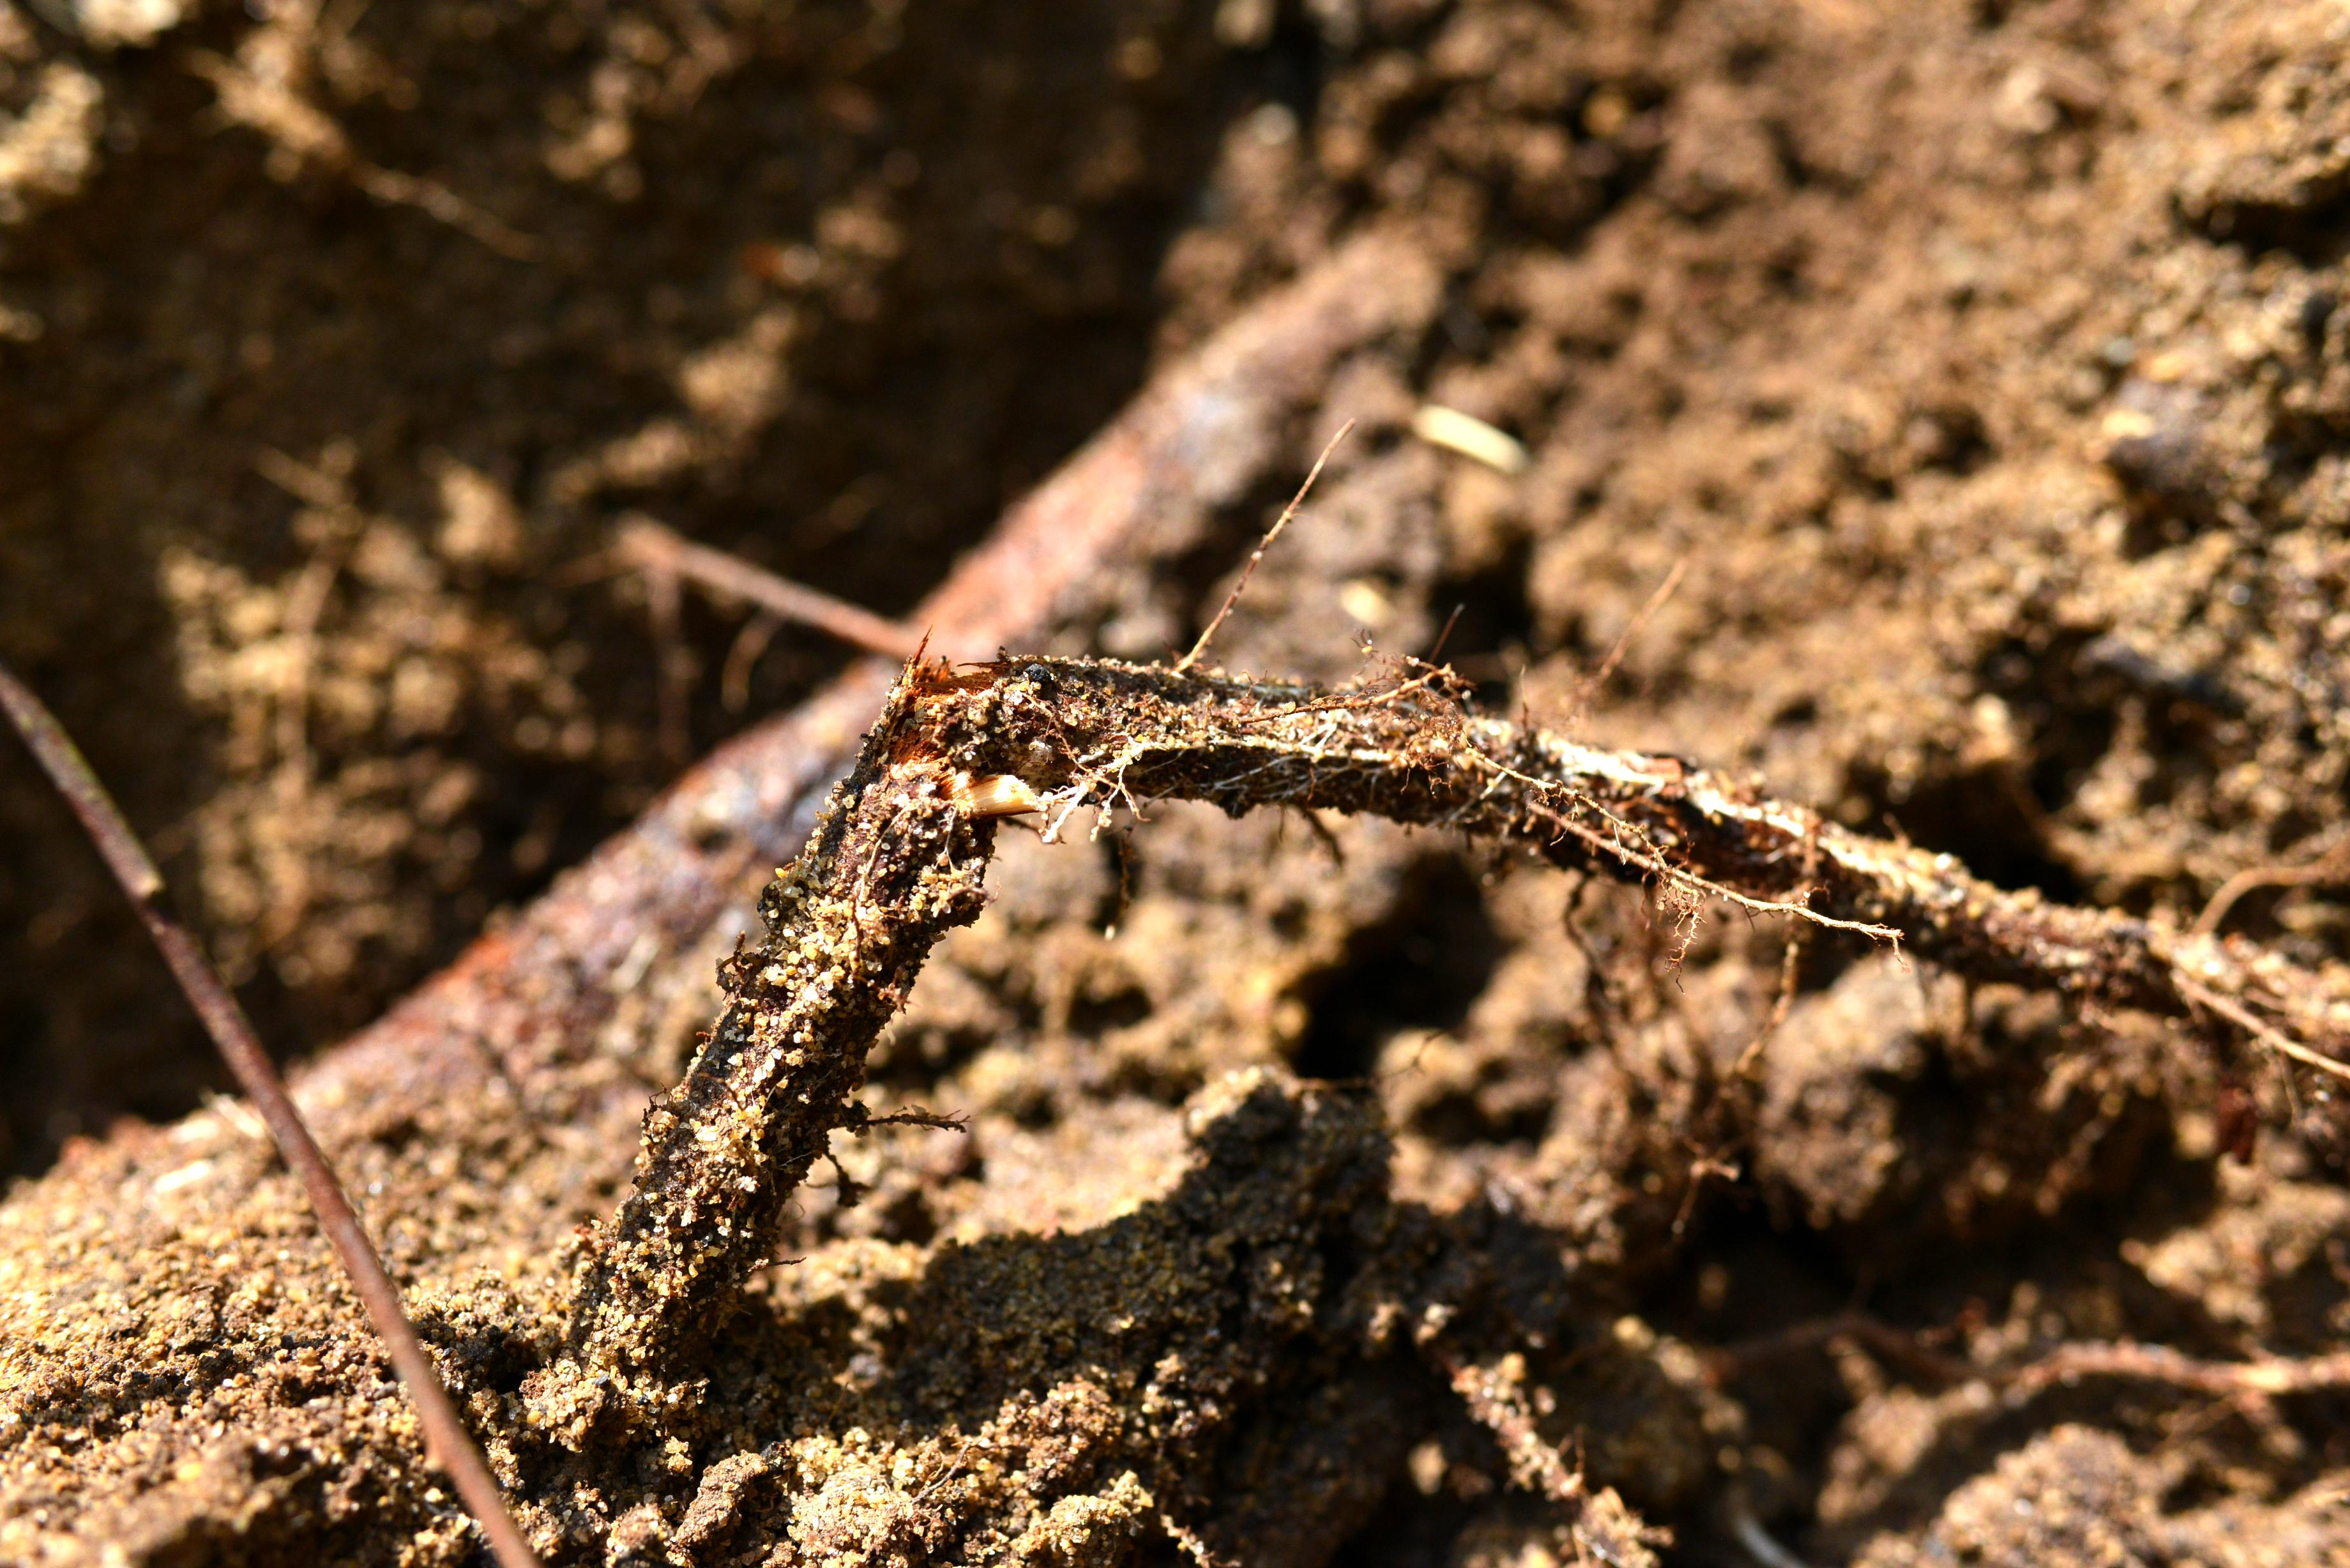Ganoderma - Mycelium: (1459, 677, 2336, 1038), (646, 887, 927, 1312), (870, 661, 1454, 801)
Red Root Rot - Secretion: (927, 215, 1424, 612), (285, 798, 667, 1113)
